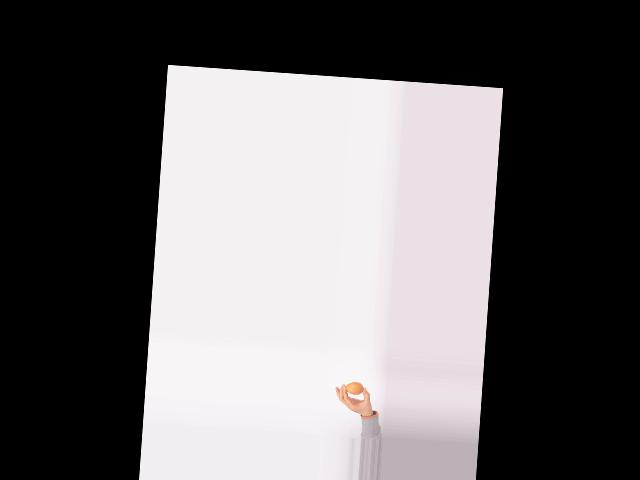egg: (345, 381, 363, 394)
